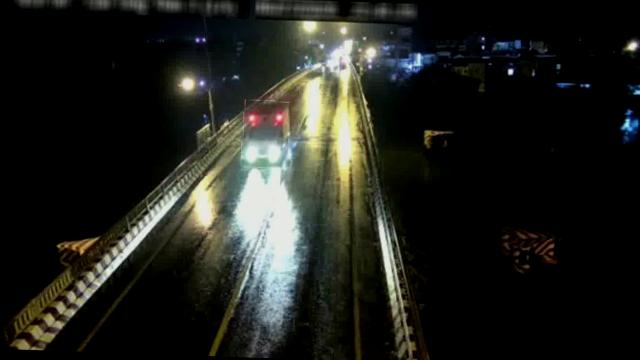Truck: (241, 99, 290, 169)
